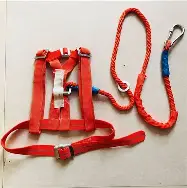safety belt: (11, 17, 178, 162)
